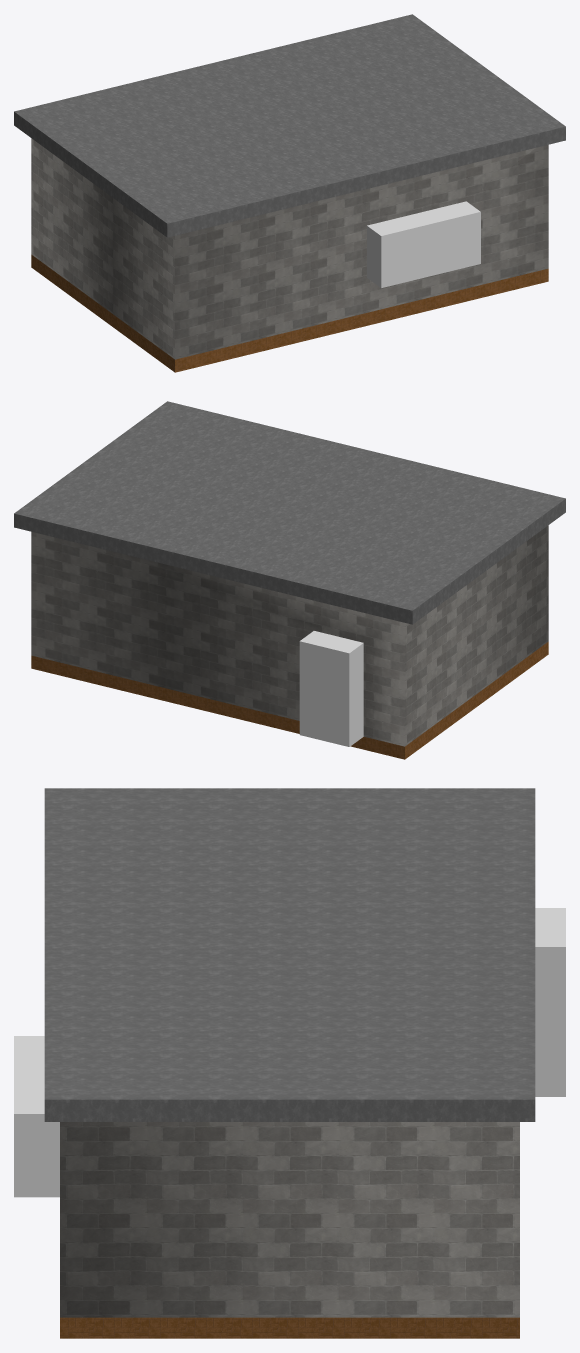
Rendered from shawarma shop.fbx.
3 renders of one model, top to bottom at view 1: azimuth 30°, elevation 25°; view 2: azimuth 150°, elevation 25°; view 3: azimuth 270°, elevation 25°, orthographic. The views are drawn at different scales.
Parts seen in each view (by area): view 1: Cube.001, Cube, Куб.001; view 2: Cube.001, Cube, Куб; view 3: Cube.001, Cube, Куб.001, Куб.
Boxes of the visible parts, x1=… form: Cube.001: x1=14, y1=14, x2=565, y2=237; Cube: x1=31, y1=138, x2=548, y2=372; Куб.001: x1=367, y1=201, x2=480, y2=288; Cube.001: x1=14, y1=401, x2=565, y2=624; Cube: x1=31, y1=525, x2=548, y2=759; Куб: x1=299, y1=631, x2=363, y2=746; Cube.001: x1=44, y1=788, x2=535, y2=1121; Cube: x1=60, y1=1122, x2=519, y2=1338; Куб.001: x1=14, y1=1036, x2=59, y2=1197; Куб: x1=535, y1=908, x2=565, y2=1096.
Bounding box in the file's own units: 1601 × 597 × 1200.
